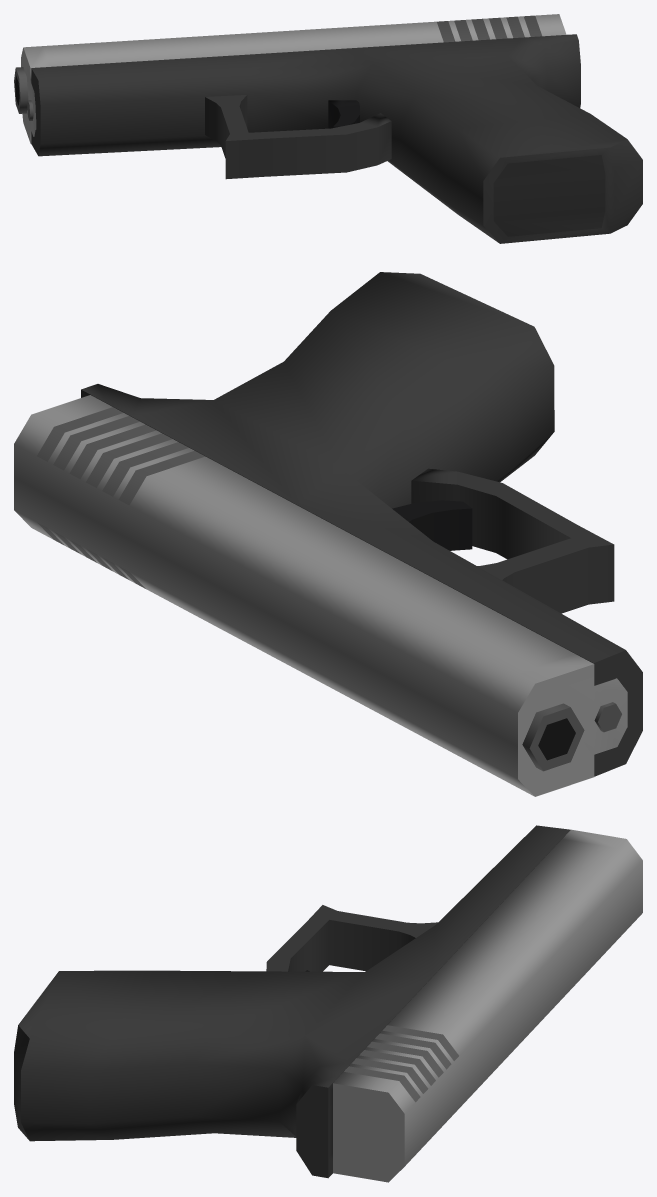
The model's file is glock.fbx.
3 views of the same model, one above another, from view 1: azimuth 30°, elevation 25°; view 2: azimuth 150°, elevation 25°; view 3: azimuth 270°, elevation 25° (orthographic). The views are drawn at different scales.
Visible parts, largest first — view 1: Glock; view 2: Glock; view 3: Glock.
Boxes of the visible parts, bbox=[...] form: Glock: bbox=[14, 14, 642, 243]; Glock: bbox=[14, 272, 642, 796]; Glock: bbox=[14, 825, 642, 1182].
Bounding box in the file's own units: 0.3485 × 0.0617 × 0.3402.
